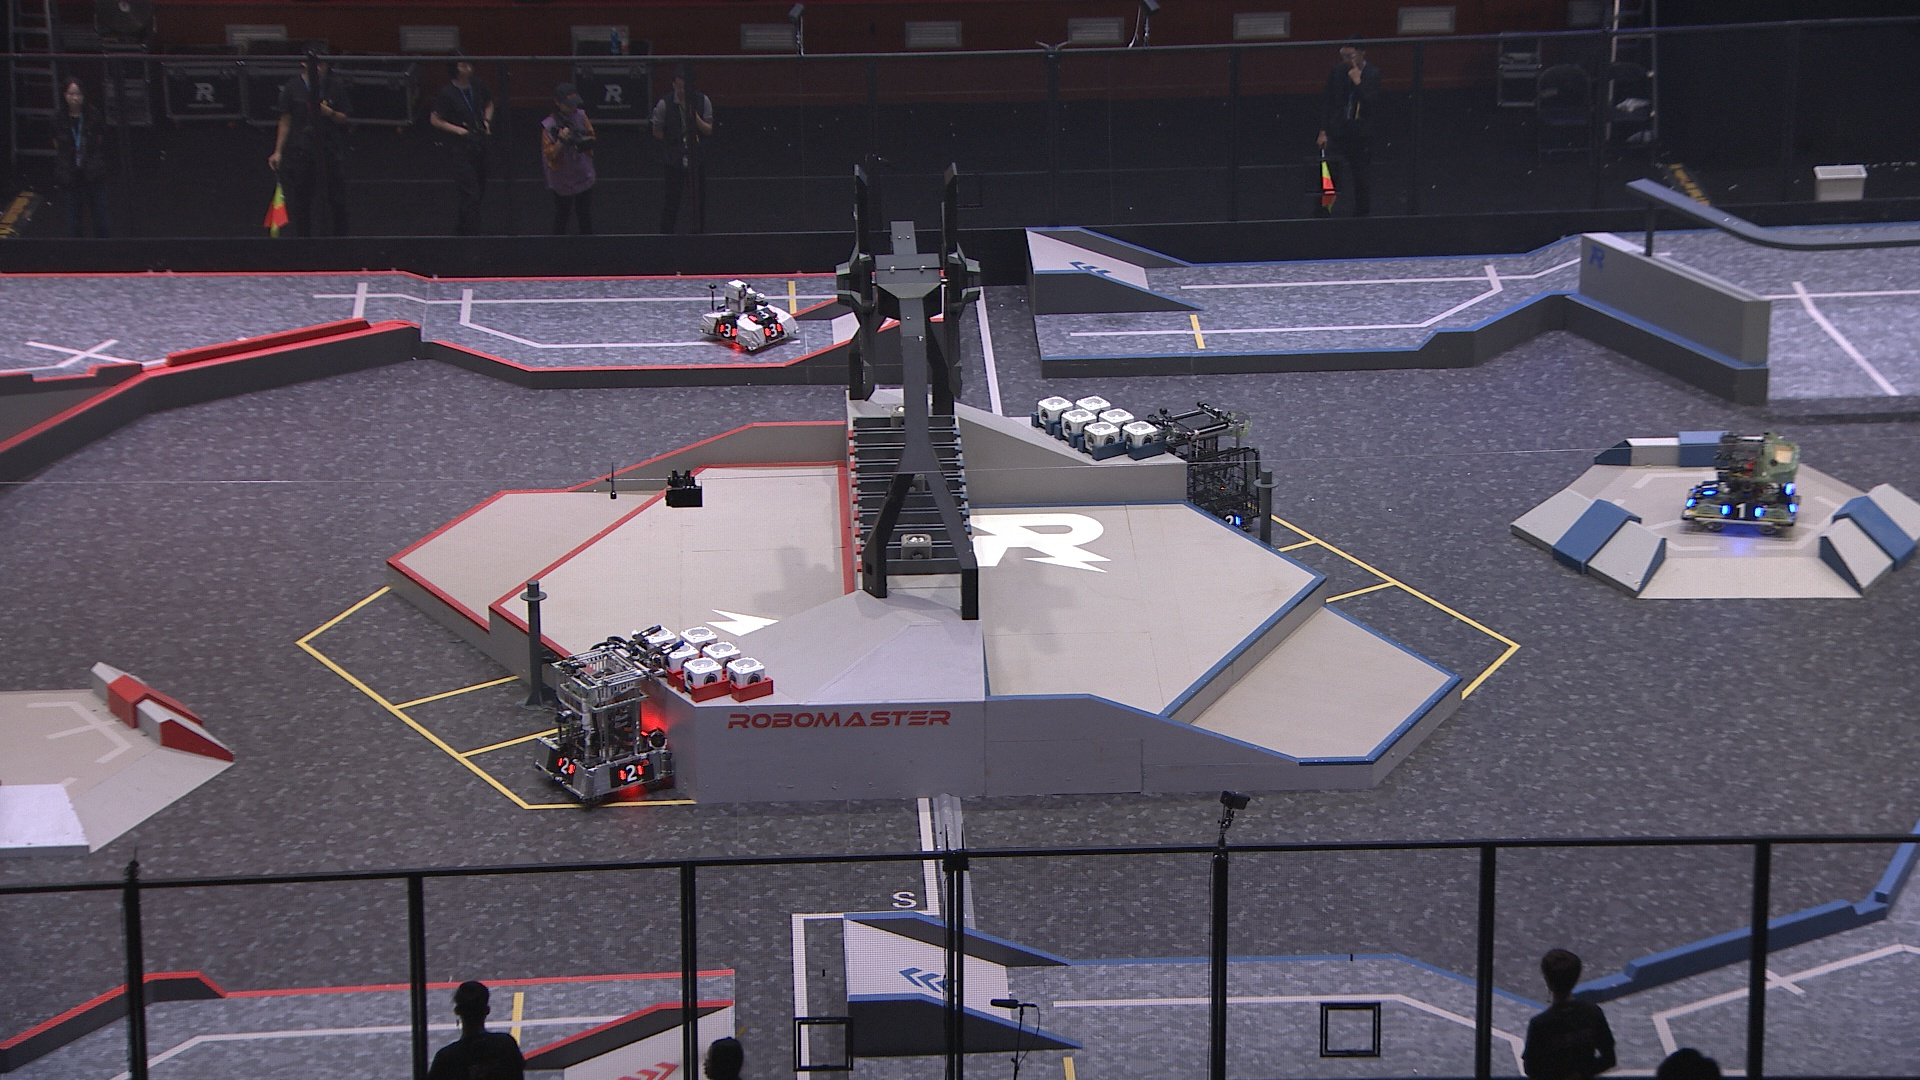armor: (1720, 498, 1766, 520), (615, 760, 646, 785), (553, 756, 579, 779), (1680, 484, 1702, 510), (746, 306, 779, 323), (717, 319, 740, 342), (1697, 479, 1721, 498), (760, 323, 785, 342), (1785, 491, 1804, 516), (1220, 513, 1244, 529)
car: (531, 646, 679, 816), (1139, 407, 1263, 537), (1681, 422, 1809, 537), (694, 273, 803, 353)
